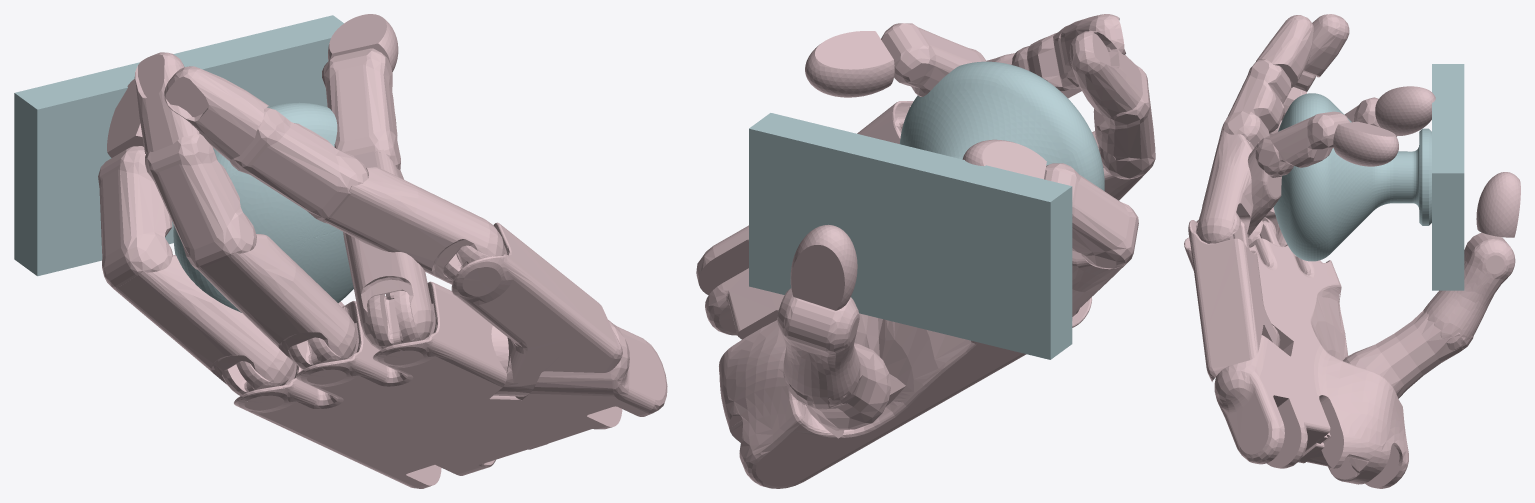
File: grasp_6.glb
3 renders of one model, left to right at view 1: azimuth 30°, elevation 25°; view 2: azimuth 150°, elevation 25°; view 3: azimuth 270°, elevation 25°, orthographic. The views are drawn at different scales.
Visible parts, largest first — view 1: world; view 2: world; view 3: world.
Boxes of the visible parts, x1=… form: world: x1=14, y1=14, x2=667, y2=488; world: x1=696, y1=14, x2=1155, y2=488; world: x1=1184, y1=14, x2=1520, y2=488.
Size of the model in its own units: 0.1601 by 0.1585 by 0.1301.
